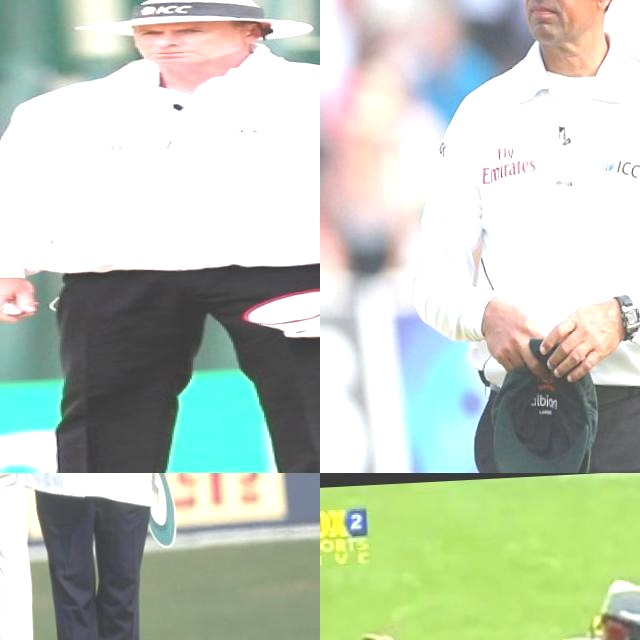No_Action: (0, 0, 320, 473), (380, 0, 640, 473)
Out: (0, 473, 194, 640)
Wide: (352, 556, 640, 640)
